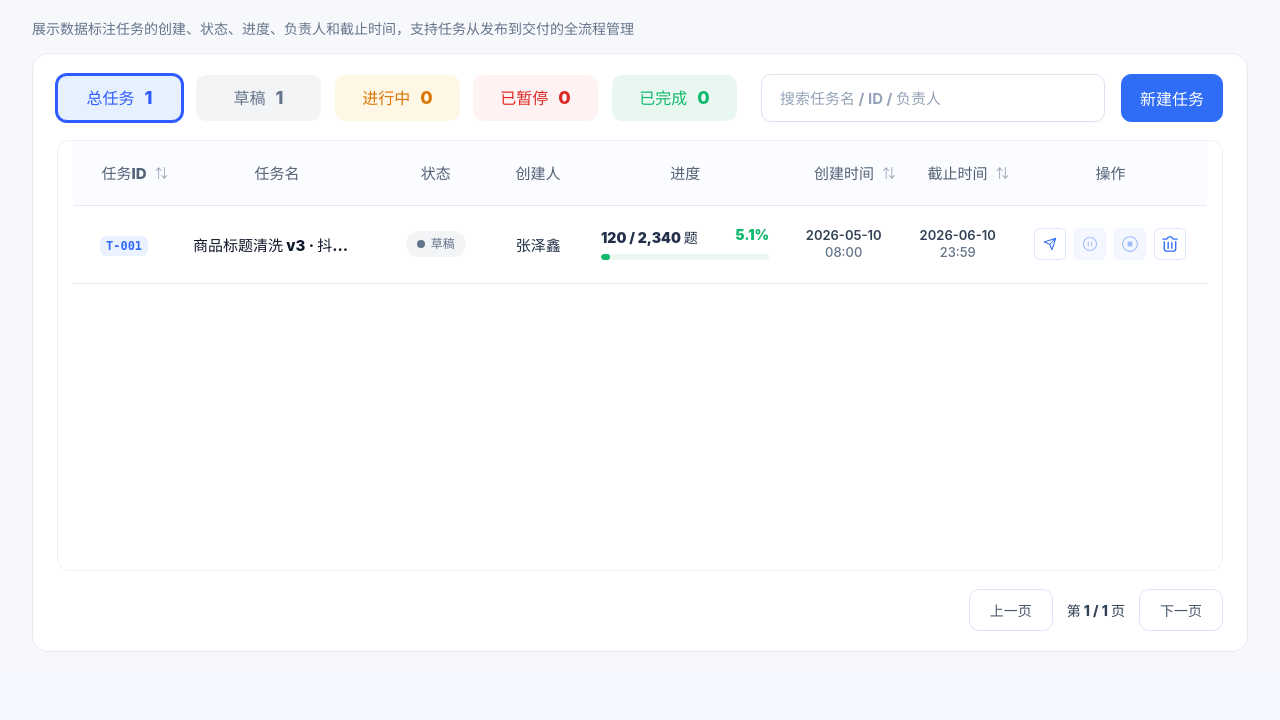
TaskListPage › 新建任务优先从评测模板列表加载模板，并在关联模板处可选择
Expected: the table named "任务列表" is shown, x1=73 y1=141 x2=1207 y2=284
Step 1. Click the button "新建任务" → (1172, 98), box x1=1121 y1=74 x2=1223 y2=122
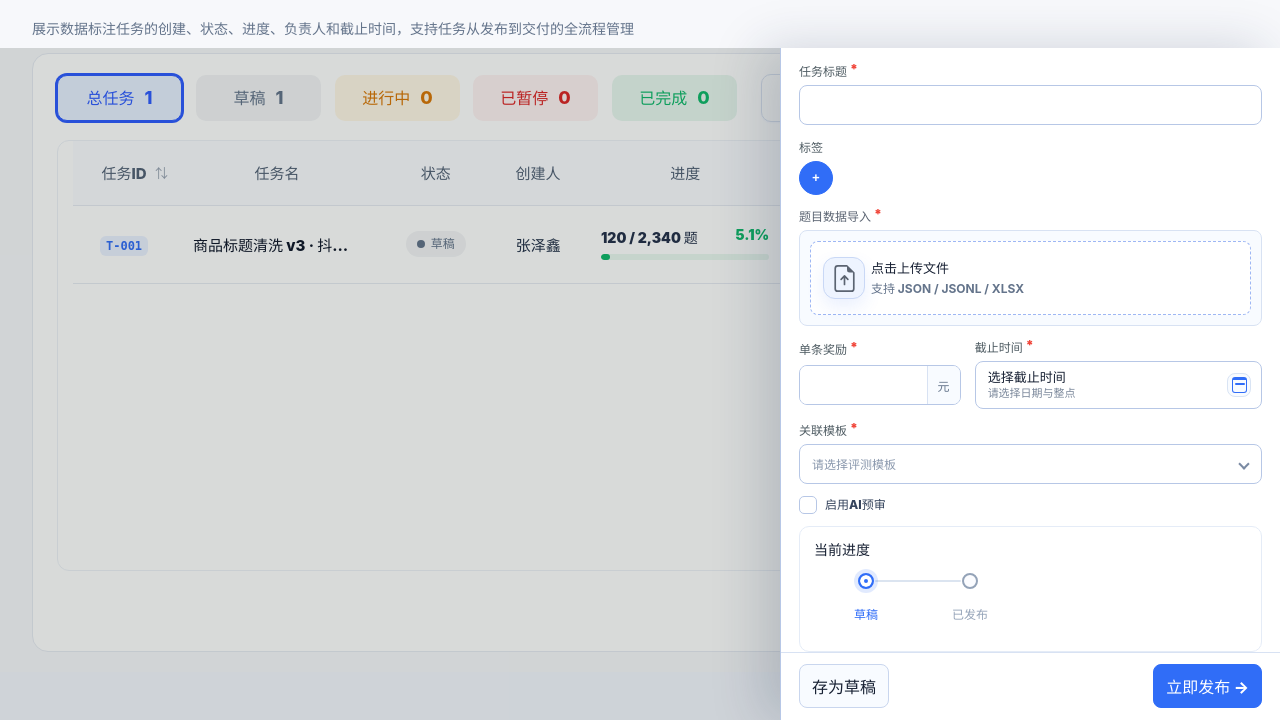
Expected: the field labelled "任务标题" is empty, x1=799 y1=85 x2=1262 y2=125
Expected: the dropdown labelled "关联模板" is empty
Step 2. Click the dropdown labelled "关联模板" → (1030, 464), box x1=799 y1=444 x2=1262 y2=484
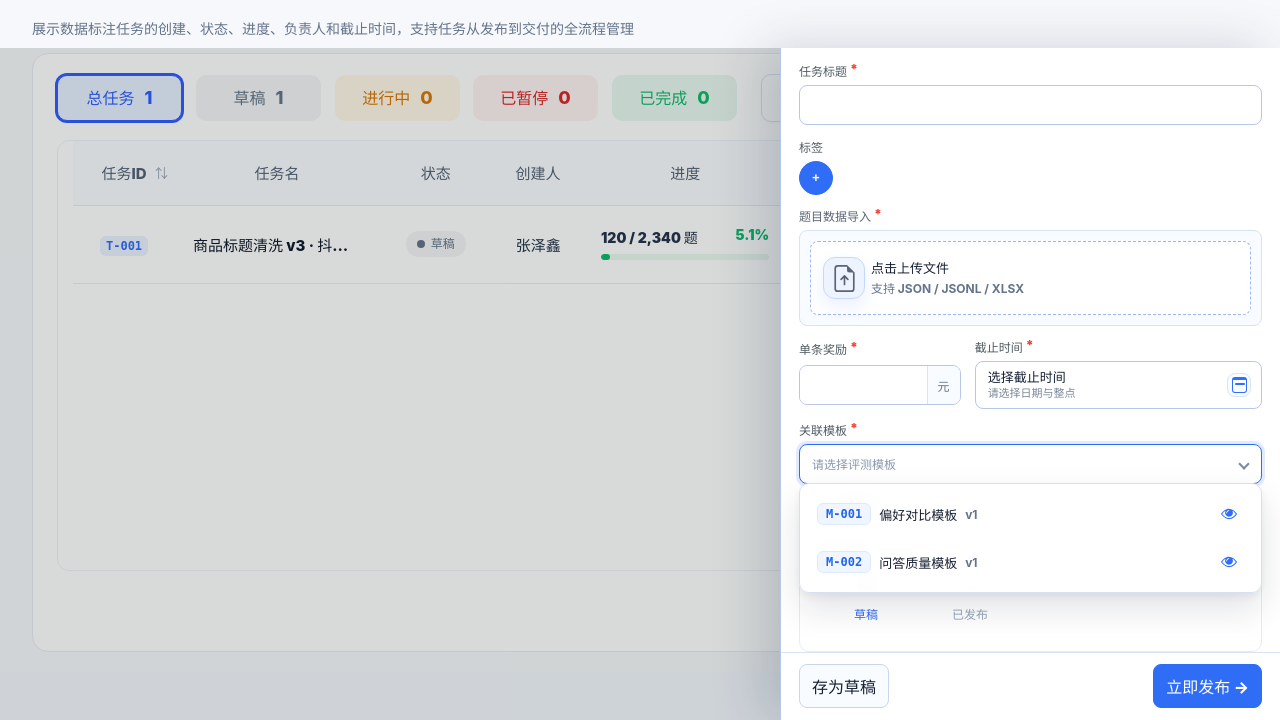
Expected: the option with aria-label "M-001 · 偏好对比模板 · v1" is shown, x1=806 y1=490 x2=1255 y2=538
Expected: the option with aria-label "M-002 · 问答质量模板 · v1" is shown, x1=806 y1=538 x2=1255 y2=586
Step 3. Type "问答" into the dropdown labelled "关联模板" → (1030, 464), box x1=799 y1=444 x2=1262 y2=484
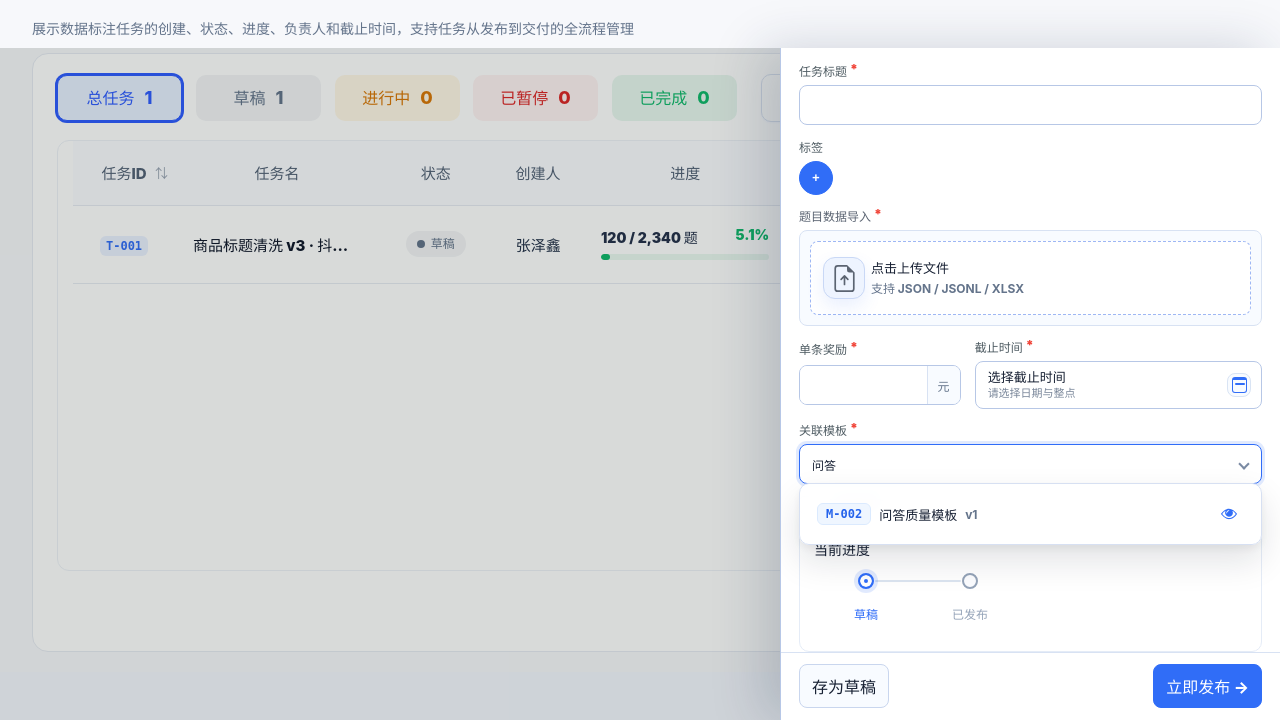
Expected: the option with aria-label "M-002 · 问答质量模板 · v1" is shown
Step 4. Click the option with aria-label "M-002 · 问答质量模板 · v1" → (844, 514), box x1=806 y1=490 x2=1255 y2=538
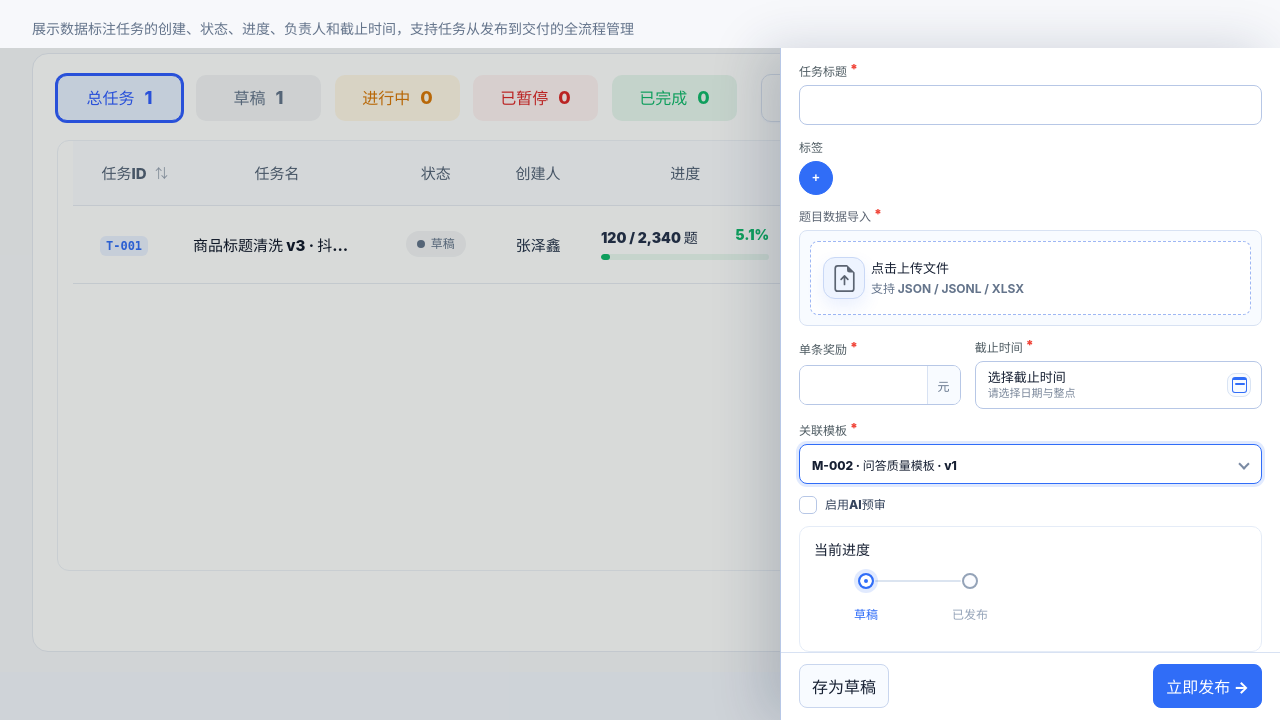
Expected: the dropdown labelled "关联模板" holds "M-002 · 问答质量模板 · v1", x1=799 y1=444 x2=1262 y2=484
